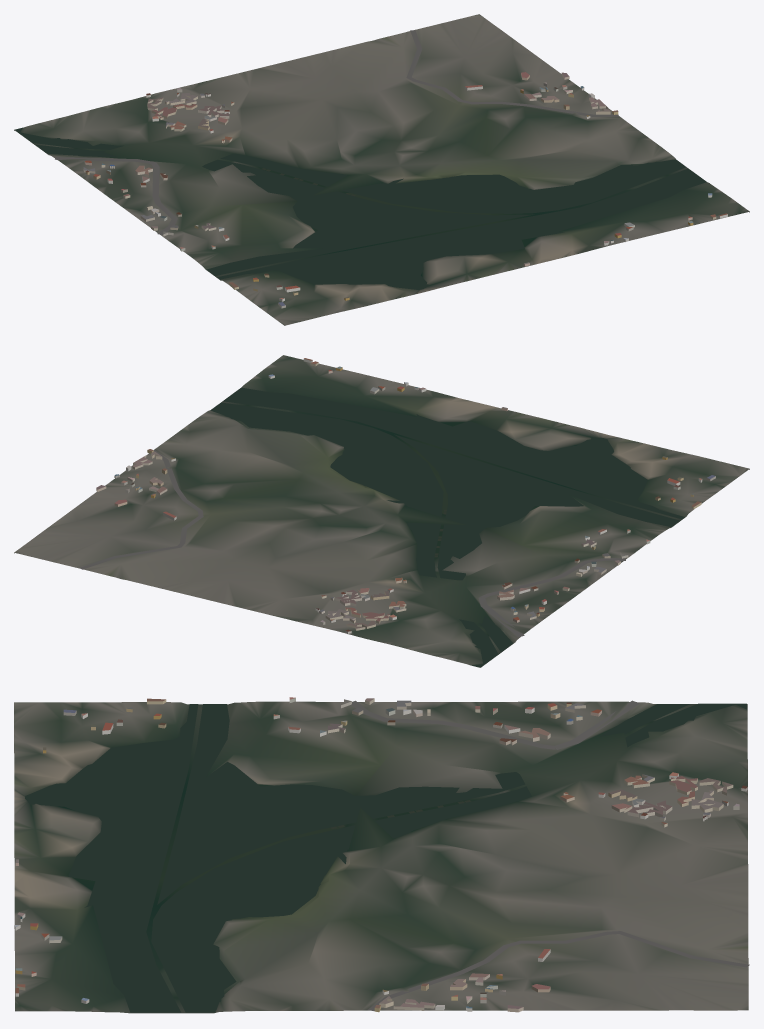
3 views of the same model, one above another, from view 1: azimuth 30°, elevation 25°; view 2: azimuth 150°, elevation 25°; view 3: azimuth 270°, elevation 25° (orthographic). The views are drawn at different scales.
Visible parts, largest first — view 1: ground, water, buildings, roads; view 2: ground, water, buildings, roads; view 3: ground, water, buildings, roads.
Part boxes in pixels (x1,y1,x2,y2): ground: (14,14,749,325); water: (15,127,706,289); buildings: (83,72,727,308); roads: (55,30,618,234); ground: (14,355,749,667); water: (210,387,684,667); buildings: (96,358,715,633); roads: (79,450,625,637); ground: (14,701,748,1013); water: (25,703,746,1012); buildings: (14,697,747,1012); roads: (351,700,749,1010).
Bounding box in the file's own units: 1410 × 18.5 × 1406.
